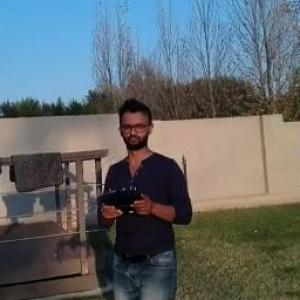follow: (92, 92, 197, 298)
